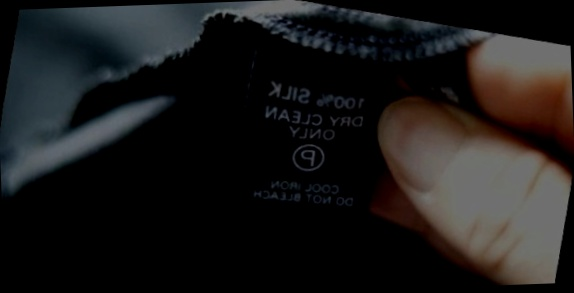dry_clean_any_solvent_except_trichloroethylene: (287, 138, 328, 176)
